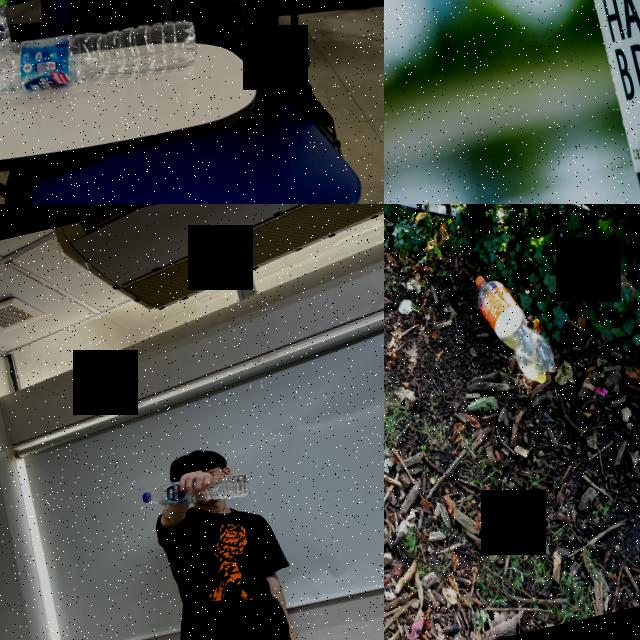bottle: (0, 2, 203, 118), (469, 261, 562, 394), (138, 463, 255, 521)
can: (536, 0, 640, 204)
